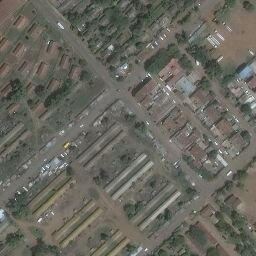tree: (203, 59, 221, 77), (175, 31, 190, 45), (167, 43, 179, 56), (197, 77, 209, 89), (9, 78, 22, 88), (34, 85, 45, 96), (12, 229, 23, 240), (135, 122, 147, 132), (207, 150, 217, 161), (240, 104, 251, 114), (6, 233, 17, 243), (239, 129, 250, 139), (125, 244, 137, 253), (242, 1, 254, 9), (133, 201, 143, 210), (214, 211, 224, 220), (164, 208, 172, 219), (123, 204, 134, 212), (232, 219, 243, 227), (156, 248, 166, 256), (66, 166, 74, 175), (80, 71, 88, 80), (230, 210, 239, 218), (121, 155, 131, 162), (125, 115, 136, 121), (100, 233, 108, 241), (225, 181, 232, 190), (237, 169, 246, 176), (135, 42, 144, 49), (150, 179, 156, 189), (185, 188, 195, 194), (157, 214, 165, 221), (127, 211, 135, 218), (101, 117, 109, 124), (26, 98, 33, 105), (232, 174, 239, 180), (109, 65, 115, 71), (120, 56, 126, 62), (177, 201, 183, 206)
